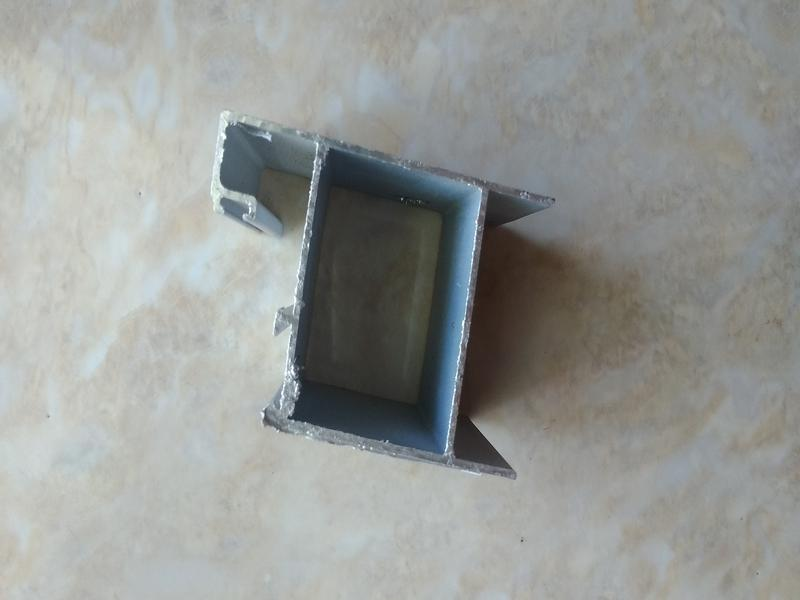Aluminium_2: (175, 74, 574, 509)
